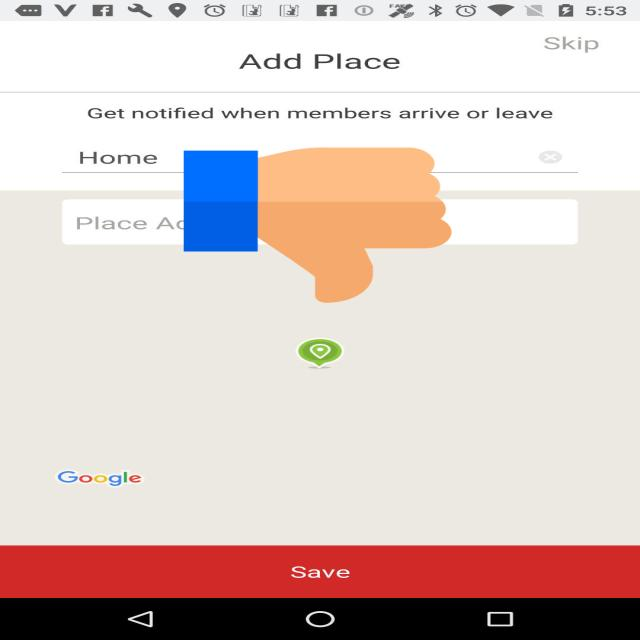obstruction: (184, 144, 452, 306)
